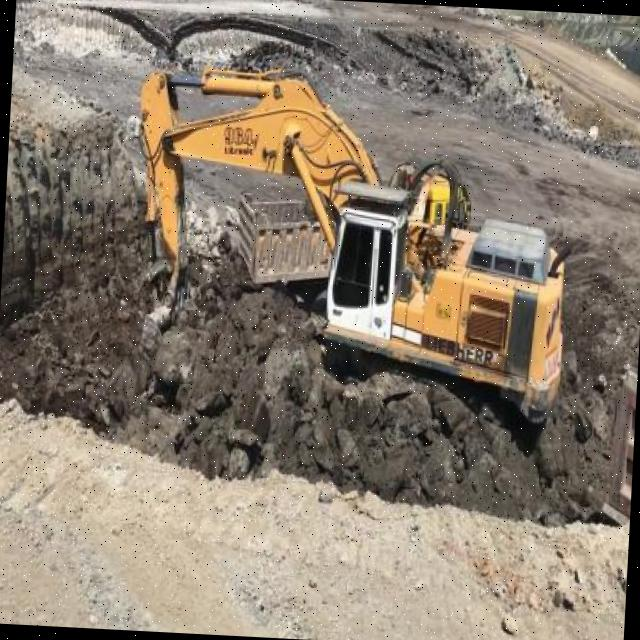Dump Truck: (230, 185, 338, 298)
Excavator: (121, 55, 582, 429)
